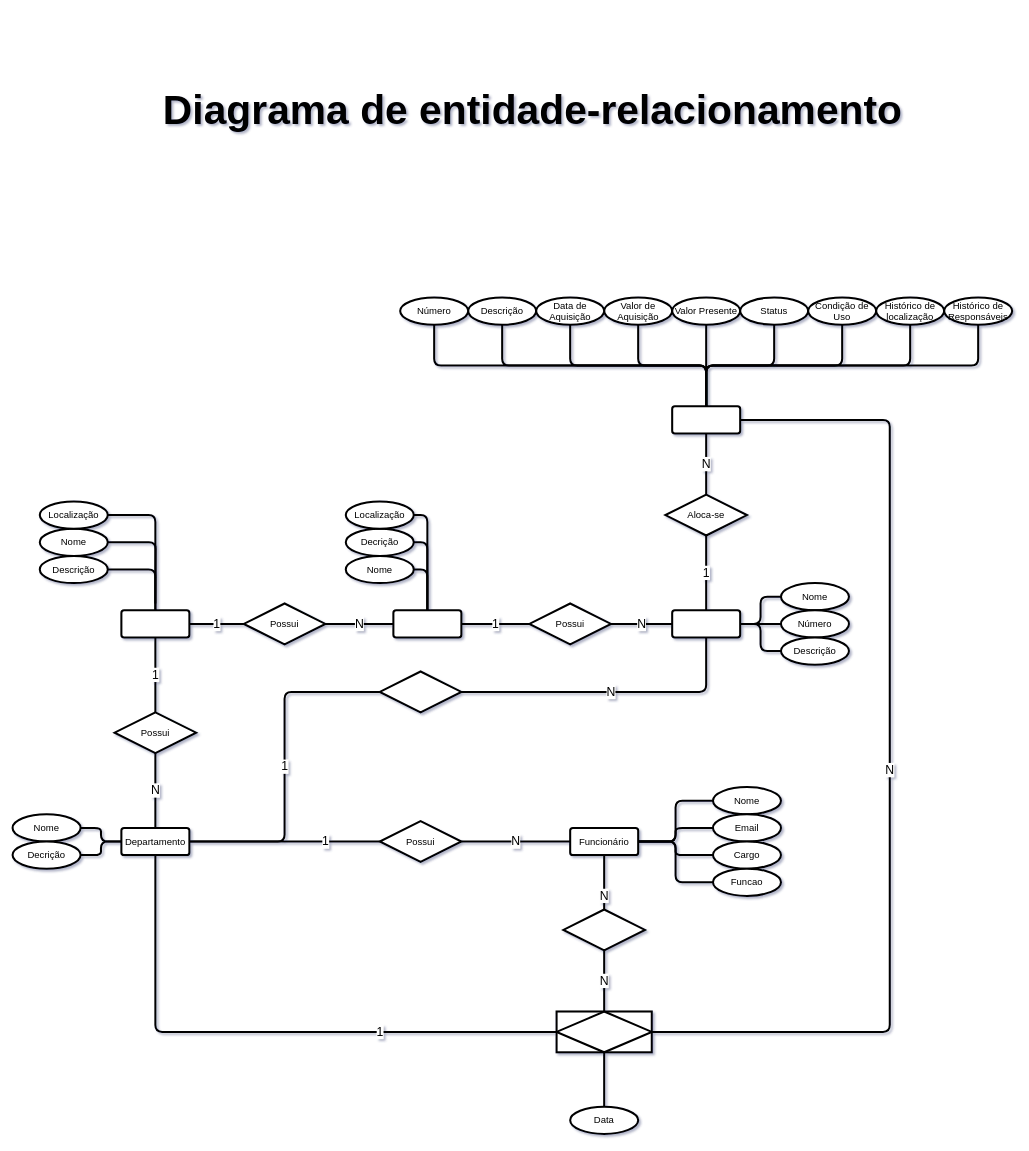
This 1029x1151 diagram has some shape labels left out. Each missing label, with the centre of its shape:
Confere: the point at 603,1031
Empresa: the point at 155,623
Participa: the point at 604,929
Patrimônio: the point at 706,419
Prédio: the point at 427,623
Respondável: the point at 420,691
Salas: the point at 706,623
